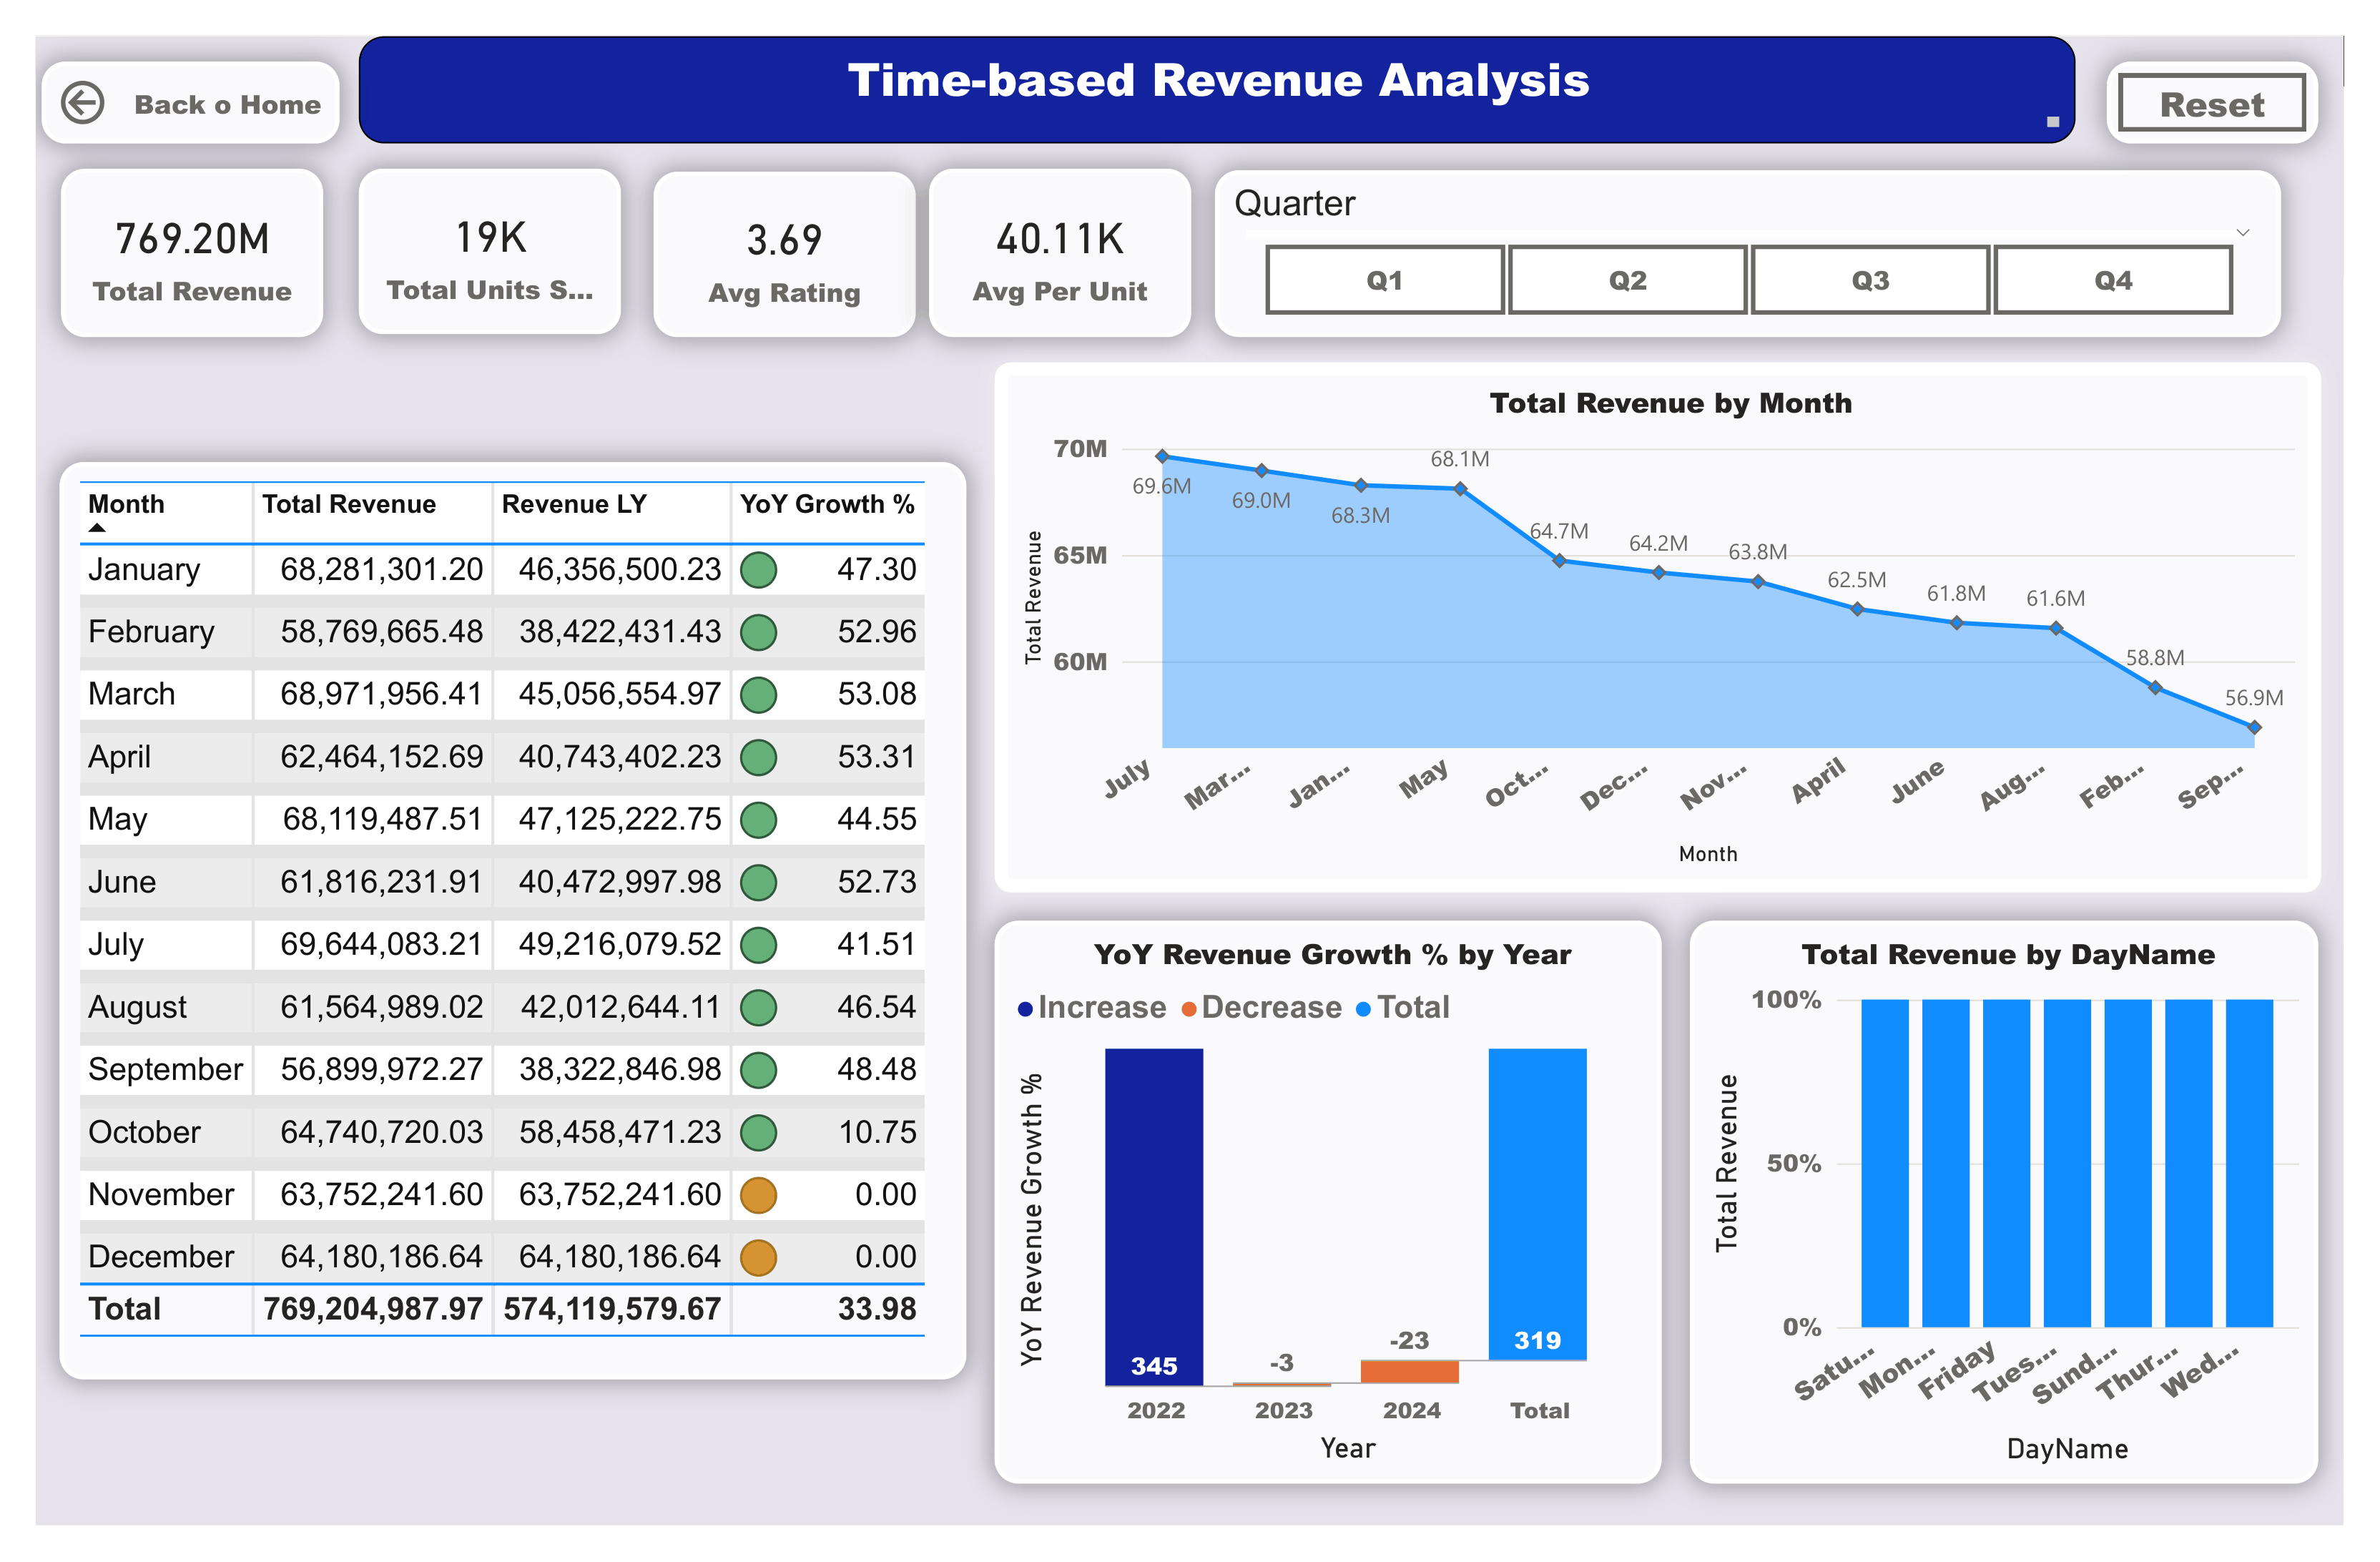

Layout of this report page (visuals, bound fields, positions):
{"tool":"powerbi","page":{"name":"Time-based Revenue Analysis","canvas":[1550,1000],"ordinal":3},"visuals":[{"type":"textbox","title":"Time-based Revenue Analysis","box":[217.4,0,1152.2,71.7],"z":0},{"type":"card","fields":{"Values":["mobile_sales.Total Revenue"]},"box":[16.7,88.9,175.9,113],"z":1000},{"type":"card","fields":{"Values":["mobile_sales.Total Units Sold"]},"box":[216.7,88.9,175.9,111.1],"z":2000},{"type":"card","fields":{"Values":["mobile_sales.Avg Rating"]},"box":[414.8,90.7,175.9,111.1],"z":3000},{"type":"card","fields":{"Values":["mobile_sales.Avg Price Per Unit"]},"box":[600,88.9,175.9,113],"z":4000},{"type":"areaChart","fields":{"Y":["mobile_sales.Total Revenue"],"Category":["DateTable.Month"]},"box":[644.2,219.2,890.4,355.8],"z":5000},{"type":"waterfallChart","fields":{"Category":["DateTable.Year"],"Y":["mobile_sales.YoY Revenue Growth %"]},"box":[644.4,594.4,447.2,377.8],"z":6000},{"type":"tableEx","fields":{"Values":["DateTable.Month","mobile_sales.Total Revenue","mobile_sales.Revenue LY","mobile_sales.YoY Revenue Growth %"]},"box":[15.7,286.3,609.8,615.7],"z":7000},{"type":"actionButton","box":[4.3,17.4,200,54.3],"z":8000},{"type":"hundredPercentStackedColumnChart","fields":{"Category":["DateTable.DayName"],"Y":["mobile_sales.Total Revenue"]},"box":[1111.1,594.4,422.2,377.8],"z":9000},{"type":"slicer","title":"Quarter","fields":{"Values":["DateTable.Quarter"]},"box":[792.2,90.2,715.7,111.8],"z":10000},{"type":"actionButton","box":[1391.3,17.4,141.3,54.3],"z":12000}]}

Visuals, with their boxes on the page's 1550x1000 design canvas (x1, y1, x2, y2). These are canvas units, not pixel positions in the 2380x1562 screenshot, which may show the page scaled, cropped or inside an application window:
"Time-based Revenue Analysis" textbox: [x1=217, y1=0, x2=1370, y2=72]
card - mobile_sales.Total Revenue: [x1=17, y1=89, x2=193, y2=202]
card - mobile_sales.Total Units Sold: [x1=217, y1=89, x2=393, y2=200]
card - mobile_sales.Avg Rating: [x1=415, y1=91, x2=591, y2=202]
card - mobile_sales.Avg Price Per Unit: [x1=600, y1=89, x2=776, y2=202]
areaChart - mobile_sales.Total Revenue x DateTable.Month: [x1=644, y1=219, x2=1535, y2=575]
waterfallChart - DateTable.Year x mobile_sales.YoY Revenue Growth %: [x1=644, y1=594, x2=1092, y2=972]
tableEx - DateTable.Month x mobile_sales.Total Revenue: [x1=16, y1=286, x2=626, y2=902]
actionButton: [x1=4, y1=17, x2=204, y2=72]
hundredPercentStackedColumnChart - DateTable.DayName x mobile_sales.Total Revenue: [x1=1111, y1=594, x2=1533, y2=972]
"Quarter" slicer: [x1=792, y1=90, x2=1508, y2=202]
actionButton: [x1=1391, y1=17, x2=1533, y2=72]
